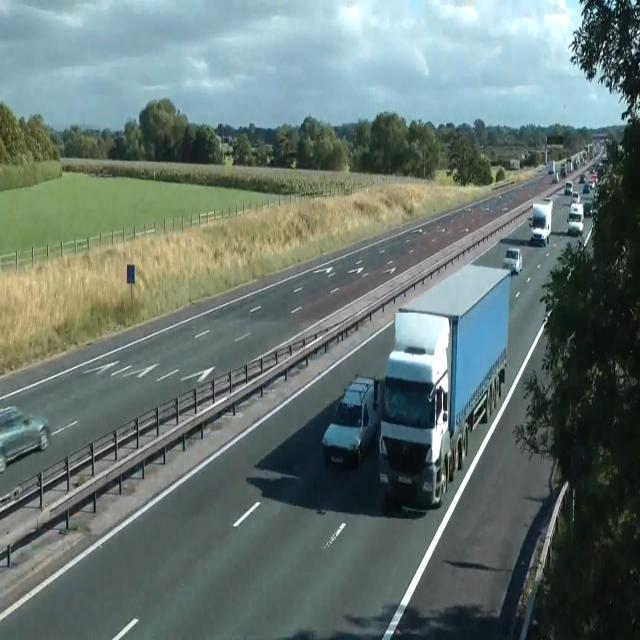bus: (0, 404, 50, 474), (502, 248, 522, 275), (583, 201, 593, 217), (570, 190, 580, 204), (582, 183, 590, 193), (552, 173, 558, 183), (579, 173, 585, 183)
jeep: (321, 375, 378, 468), (566, 202, 584, 236), (564, 180, 572, 194)
minibus: (376, 262, 510, 508), (529, 196, 553, 246), (510, 159, 520, 170), (548, 160, 554, 174), (560, 164, 566, 176)
